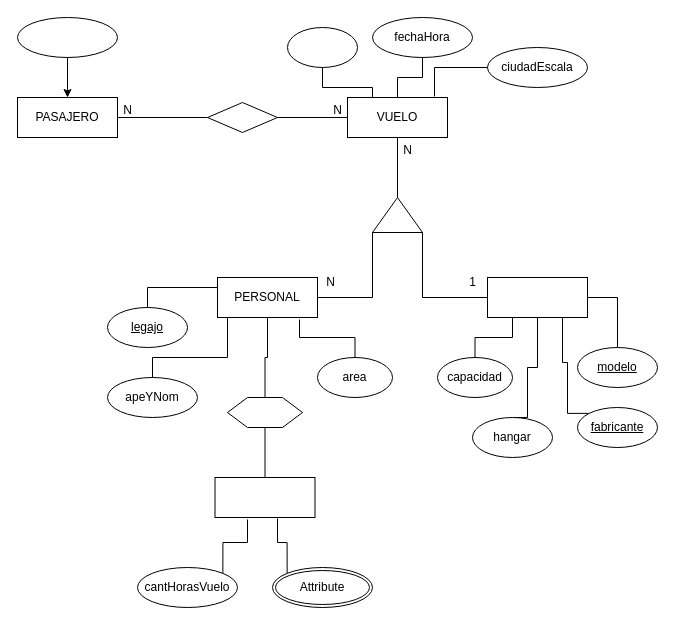
This 675x625 diagram has some shape labels left out. Here are the shapes that lost their labels. From the top down, the centre of each, then its label:
At pixel 67 37: "pasaporte".
At pixel 322 47: "nro".
At pixel 242 117: "Toma".
At pixel 397 214: "Realizado con".
At pixel 537 297: "AVION".
At pixel 264 412: "Tipo".
At pixel 264 497: "PILOTO".
